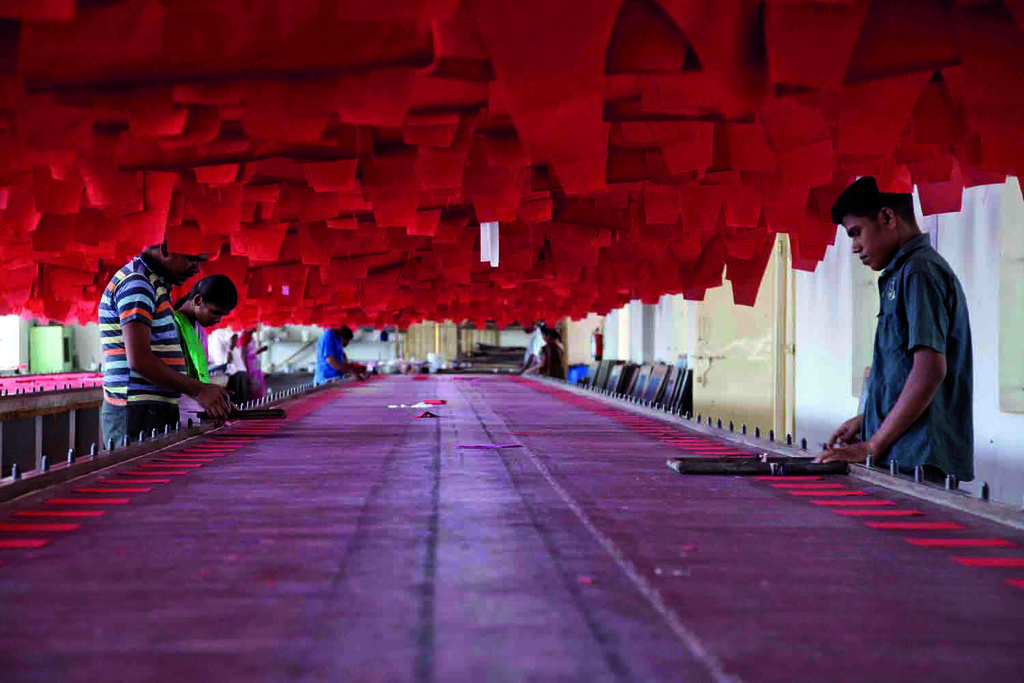person: (815, 174, 979, 498), (98, 233, 229, 448), (172, 271, 235, 426), (206, 323, 250, 408), (311, 321, 369, 384), (240, 322, 276, 396), (532, 326, 568, 382), (519, 321, 547, 383)
